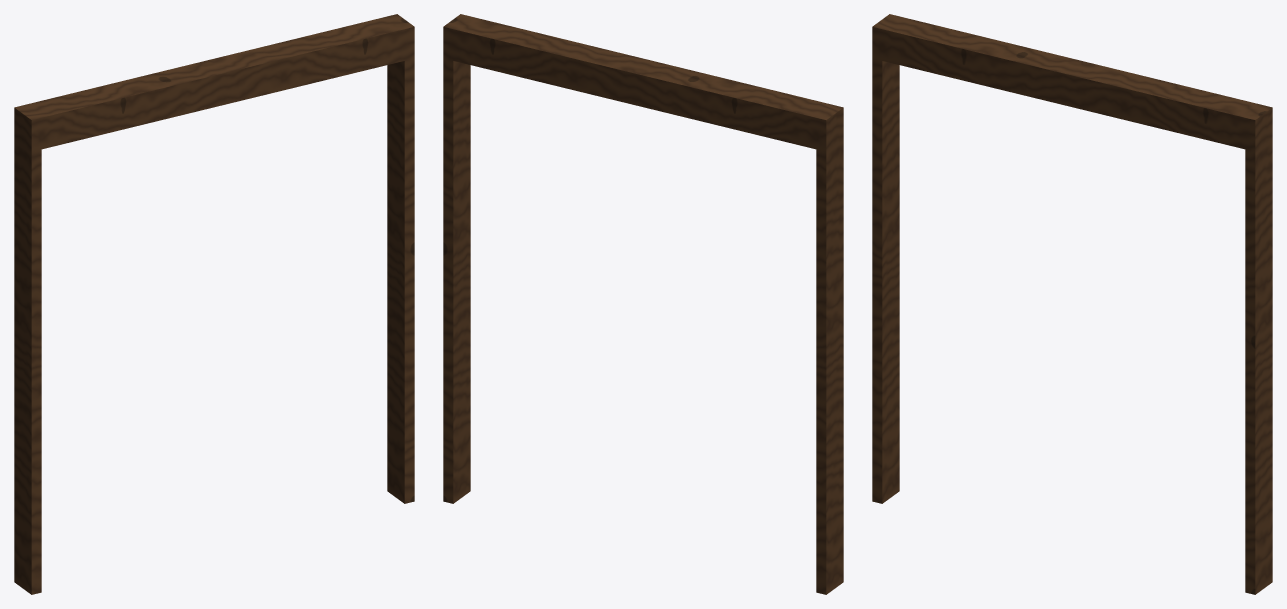
File: door_frame_double.glb
3 views of the same model, side by side, from view 1: azimuth 30°, elevation 25°; view 2: azimuth 150°, elevation 25°; view 3: azimuth 330°, elevation 25° (orthographic).
Visible parts, largest first — view 1: lintel, jamb_l, jamb_r; view 2: lintel, jamb_l, jamb_r; view 3: lintel, jamb_r, jamb_l.
Part boxes in pixels (left/top/right/bottom): lintel: left=14, top=14, right=414, bottom=151; jamb_l: left=14, top=139, right=41, bottom=594; jamb_r: left=387, top=58, right=414, bottom=503; lintel: left=443, top=14, right=843, bottom=151; jamb_l: left=816, top=139, right=843, bottom=594; jamb_r: left=443, top=58, right=470, bottom=503; lintel: left=872, top=14, right=1272, bottom=151; jamb_r: left=1245, top=139, right=1272, bottom=594; jamb_l: left=872, top=58, right=899, bottom=503.
Bounding box in the file's own units: 1.9 × 2.25 × 0.15.
Materials: 1 (1 with a texture image).
